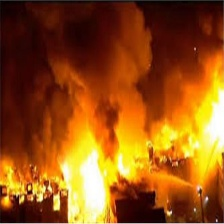fire: (186, 76, 224, 167), (59, 146, 107, 218)
smoke: (6, 7, 224, 144)
